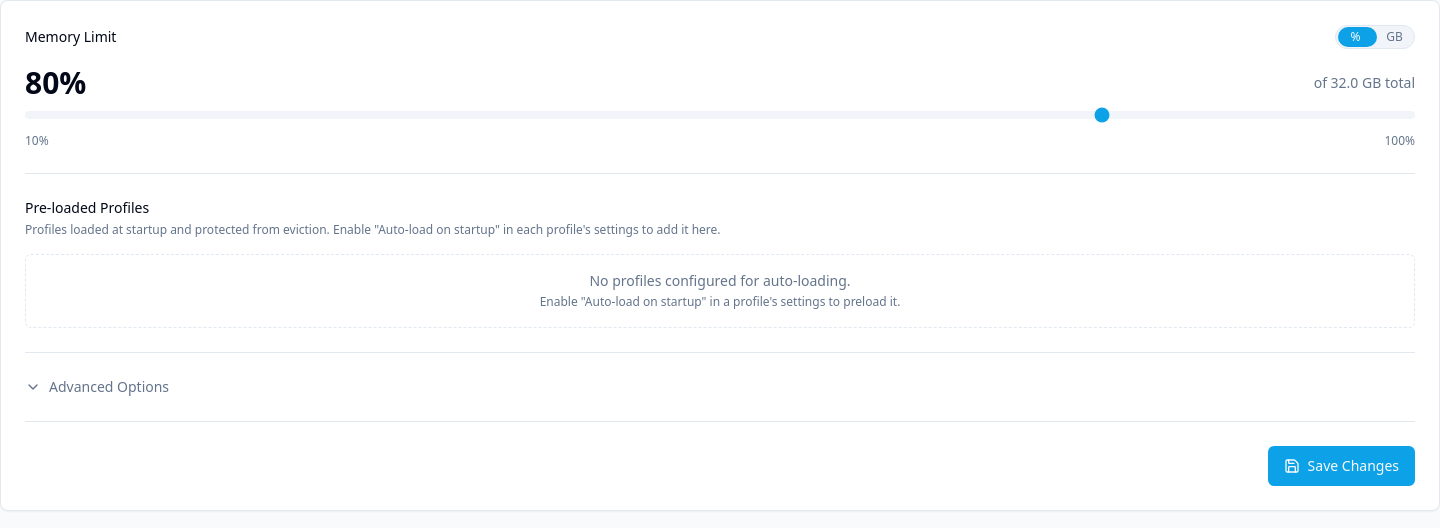
it: ModelPoolSettings › slider and input synchronization › updates display when slider is moved
This screenshot has width=1440, height=528.
expect the text "80%" is shown: met, box [25,65,86,101]
Set the slider to "60": [796, 115] box [25,111,1415,119]
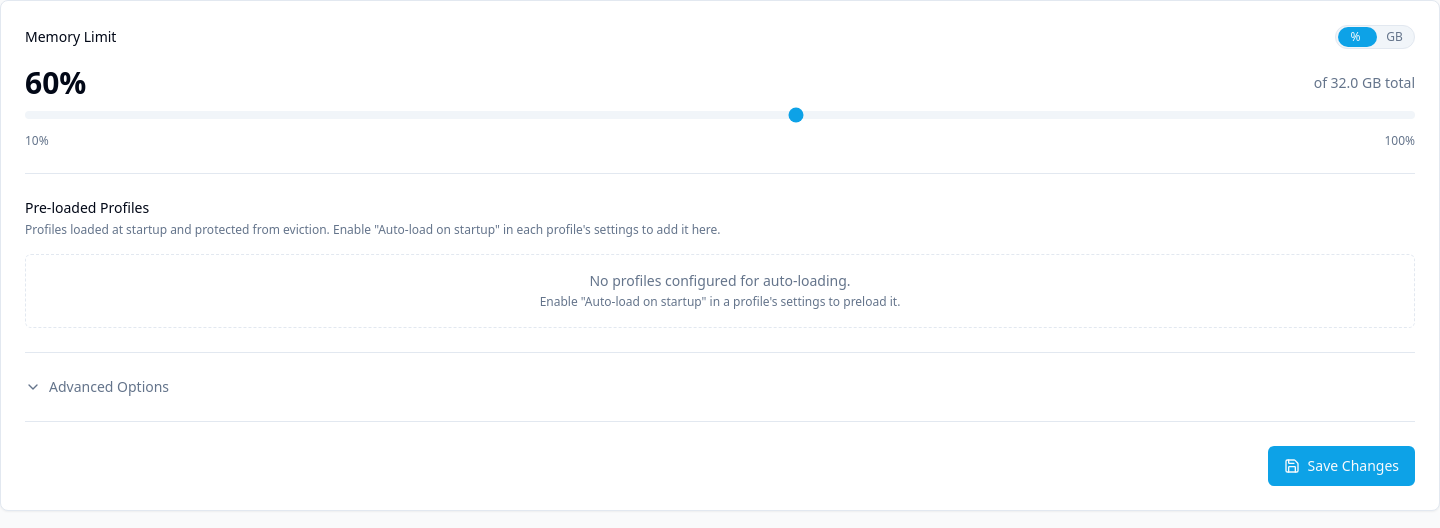
expect the text "60%" is shown: met, box [25,65,86,101]
